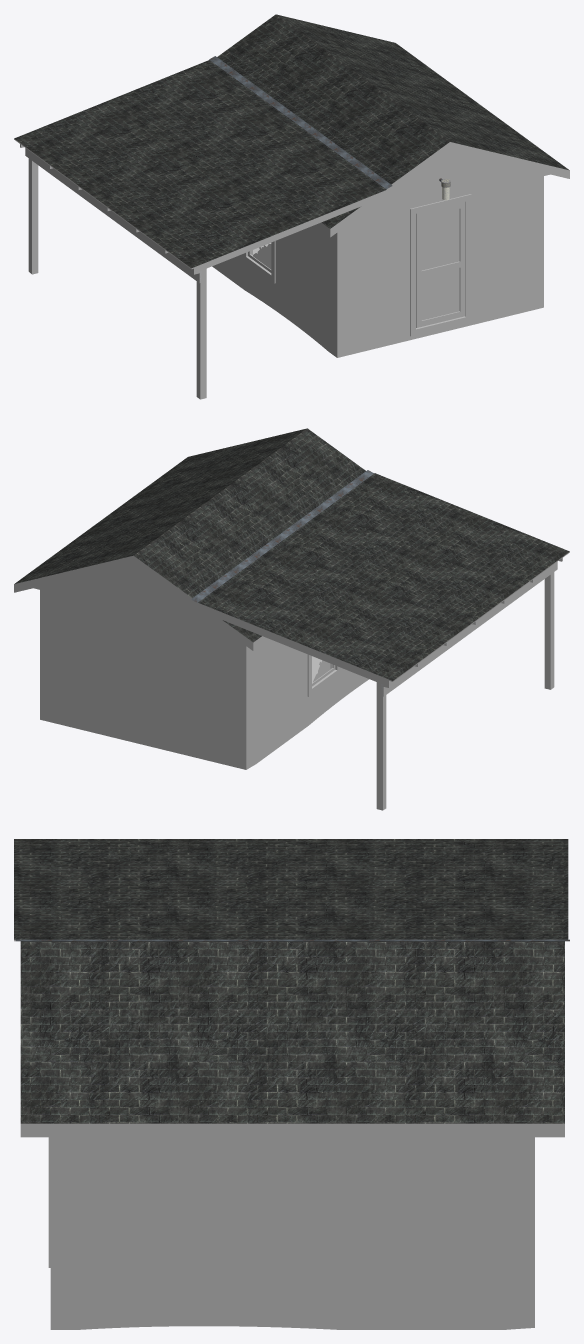
File: oldShed.fbx
3 renders of one model, top to bottom at view 1: azimuth 30°, elevation 25°; view 2: azimuth 150°, elevation 25°; view 3: azimuth 270°, elevation 25°, orthographic. The views are drawn at different scales.
Parts seen in each view (by area): view 1: ID431, group_21, ID518, instance_0, group_0, group_18, ID414, group_16, group_17, ID389, group_15; view 2: group_21, ID431, ID518, group_18, ID414, group_17, ID317, group_16, group_15; view 3: group_21, ID518, ID431, group_18.
Part boxes in pixels (x1=…): ID431: x1=14, y1=60, x2=386, y2=268; group_21: x1=212, y1=142, x2=569, y2=357; ID518: x1=217, y1=14, x2=569, y2=228; instance_0: x1=416, y1=201, x2=465, y2=327; group_0: x1=410, y1=194, x2=471, y2=336; group_18: x1=209, y1=56, x2=392, y2=189; ID414: x1=25, y1=148, x2=199, y2=282; group_16: x1=196, y1=268, x2=206, y2=399; group_17: x1=28, y1=158, x2=38, y2=274; ID389: x1=193, y1=195, x2=376, y2=274; group_15: x1=14, y1=139, x2=386, y2=269; group_21: x1=14, y1=555, x2=368, y2=769; ID431: x1=198, y1=473, x2=569, y2=680; ID518: x1=15, y1=428, x2=365, y2=642; group_18: x1=191, y1=470, x2=373, y2=602; ID414: x1=383, y1=561, x2=557, y2=696; group_17: x1=376, y1=682, x2=386, y2=810; ID317: x1=203, y1=606, x2=388, y2=687; group_16: x1=544, y1=572, x2=554, y2=689; group_15: x1=197, y1=552, x2=569, y2=681; group_21: x1=20, y1=1123, x2=564, y2=1329; ID518: x1=20, y1=941, x2=564, y2=1123; ID431: x1=14, y1=839, x2=568, y2=939; group_18: x1=15, y1=939, x2=569, y2=941.
Size of the model in its own units: 60.64 by 30.13 by 49.11.
